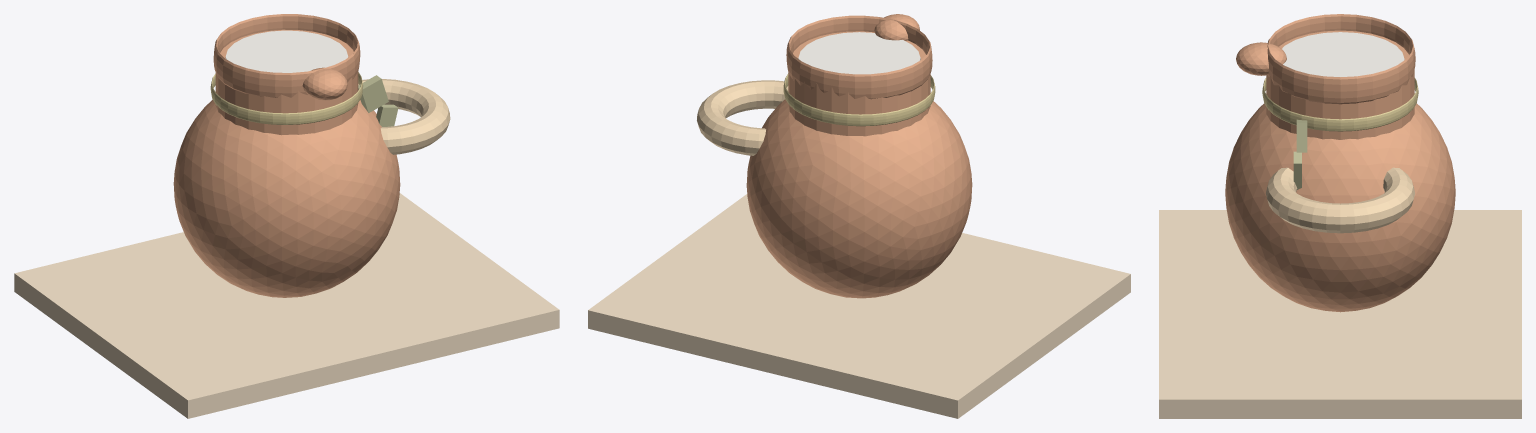
The model's file is item_milk.glb.
3 views of the same model, side by side, from view 1: azimuth 30°, elevation 25°; view 2: azimuth 150°, elevation 25°; view 3: azimuth 270°, elevation 25° (orthographic). The views are drawn at different scales.
Visible parts, largest first — view 1: Mat, Jug_Body, Jug_Rim, Milk, Jug_Neck, Handle, Band, Spout, Ribbon_Knot; view 2: Mat, Jug_Body, Jug_Rim, Jug_Neck, Handle, Milk, Band, Spout; view 3: Mat, Jug_Body, Jug_Rim, Handle, Milk, Jug_Neck, Band, Spout, Ribbon_Knot.
Boxes of the visible parts, box(x1,y1,x2,y2) form: Mat: box(14, 193, 559, 418); Jug_Body: box(173, 99, 400, 297); Jug_Rim: box(213, 14, 360, 97); Milk: box(225, 30, 348, 72); Jug_Neck: box(215, 29, 358, 135); Handle: box(358, 79, 450, 154); Band: box(210, 72, 363, 124); Spout: box(302, 67, 347, 100); Ribbon_Knot: box(358, 75, 388, 112); Mat: box(588, 194, 1130, 418); Jug_Body: box(746, 99, 972, 298); Jug_Rim: box(786, 15, 932, 99); Jug_Neck: box(788, 31, 930, 136); Handle: box(697, 80, 788, 155); Milk: box(798, 32, 920, 74); Band: box(783, 73, 935, 126); Spout: box(874, 14, 919, 40); Mat: box(1159, 210, 1521, 418); Jug_Body: box(1225, 103, 1455, 312); Jug_Rim: box(1267, 14, 1415, 104); Handle: box(1266, 167, 1414, 233); Milk: box(1282, 32, 1404, 76); Jug_Neck: box(1266, 30, 1414, 139); Band: box(1262, 78, 1418, 131); Spout: box(1236, 42, 1286, 75); Ribbon_Knot: box(1296, 119, 1307, 152).
Size of the model in its own units: 1.05 by 0.72 by 0.85.
